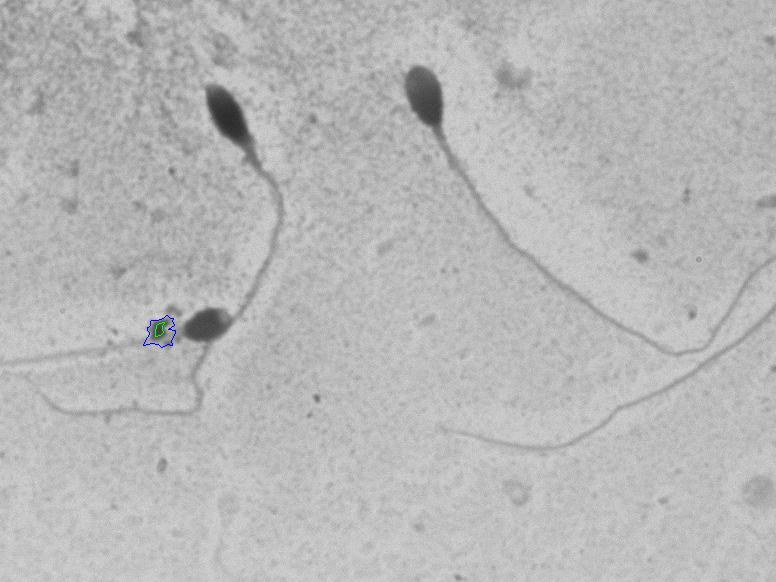Abnormal: (146, 57, 320, 295), (9, 284, 262, 415)
Normal: (356, 52, 745, 360)
